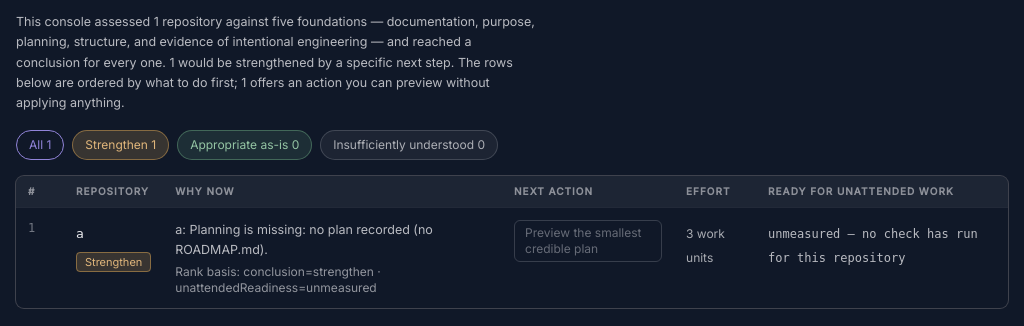
Test: TodayView — appropriate as-is filters like any other outcome › explains an empty filter result instead of showing a blank table
The width and height of the screenshot is (1024, 326).
What coordinates should you click on to do the following:
click the button "Appropriate as-is 0"
I would click on:
 (245, 145)
Its box is [177,130,312,160].
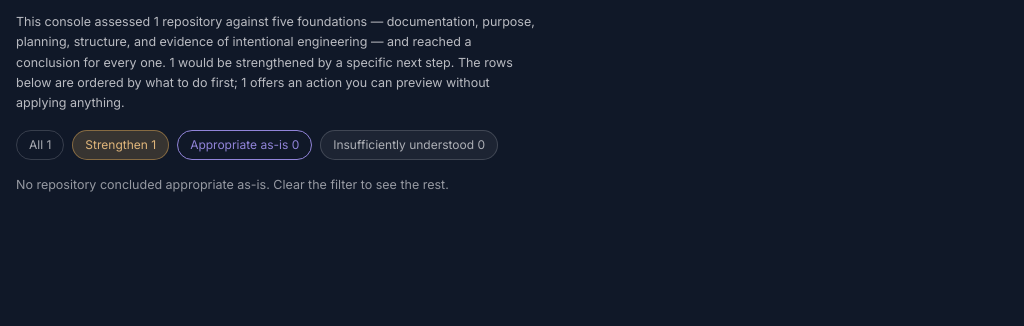
Expected: the text with test id "today-empty" shows "Clear the filter", [16,177,449,192]
